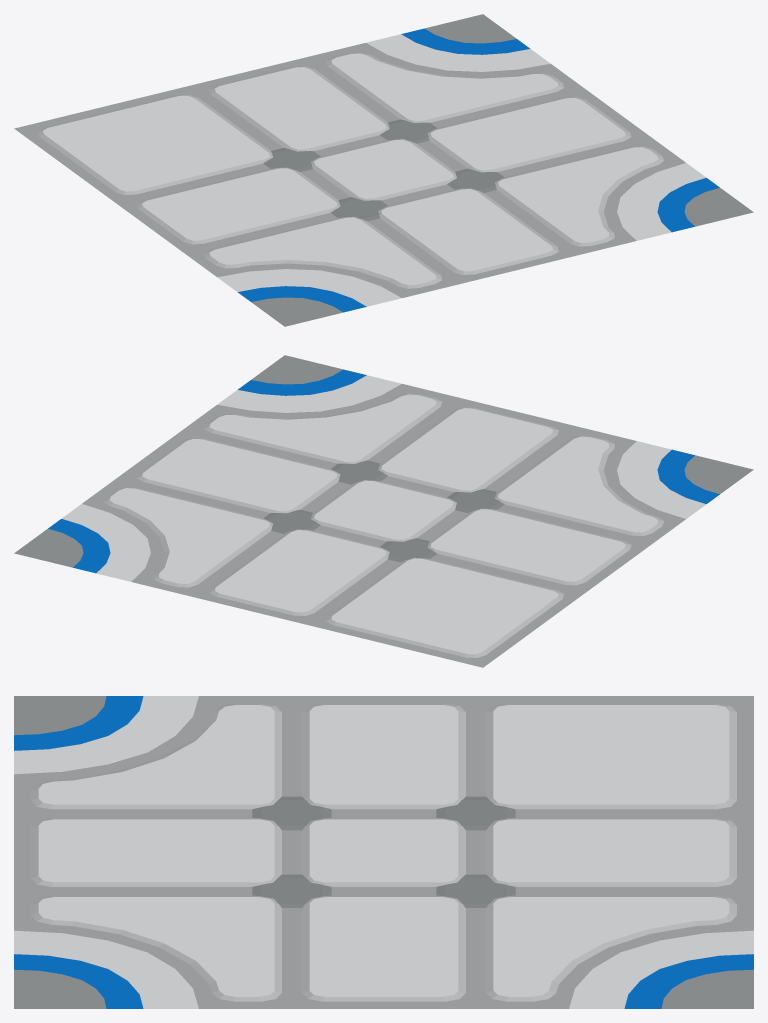
Rendered from Floor_type_A_031.glb.
3 views of the same model, one above another, from view 1: azimuth 30°, elevation 25°; view 2: azimuth 150°, elevation 25°; view 3: azimuth 270°, elevation 25° (orthographic). The views are drawn at different scales.
Visible parts, largest first — view 1: Floor_type_A_031; view 2: Floor_type_A_031; view 3: Floor_type_A_031.
Boxes of the visible parts, left/top/right/bottom form: Floor_type_A_031: left=14, top=14, right=753, bottom=326; Floor_type_A_031: left=14, top=355, right=753, bottom=667; Floor_type_A_031: left=14, top=696, right=753, bottom=1008.
Size of the model in its own units: 4 by 0.0134 by 4.
Materials: 2 (2 with a texture image).
